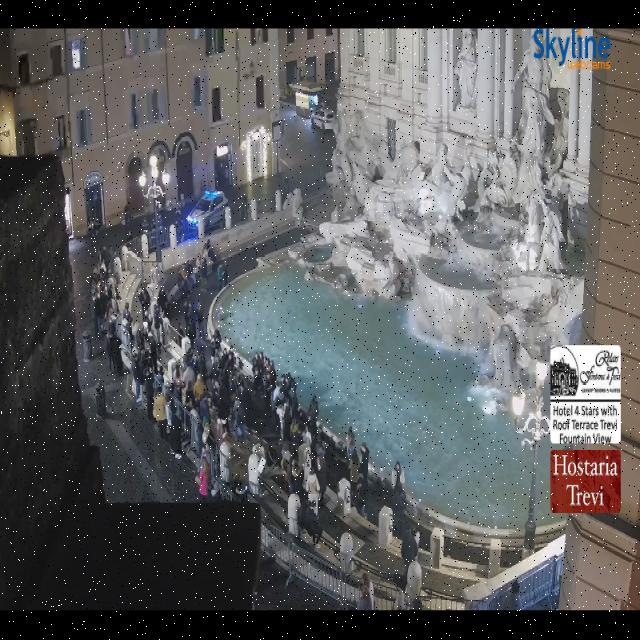person: (184, 347, 219, 407), (184, 350, 215, 404), (281, 443, 307, 499), (166, 383, 182, 453), (184, 344, 214, 381), (128, 308, 154, 350), (127, 310, 154, 350), (220, 350, 243, 394), (236, 373, 263, 409), (90, 253, 113, 293), (210, 388, 230, 431), (305, 502, 323, 548), (102, 284, 119, 332), (401, 527, 418, 574), (212, 344, 228, 393), (292, 494, 311, 535), (196, 343, 216, 381), (187, 404, 203, 451), (146, 307, 162, 354), (232, 373, 251, 411), (348, 450, 361, 505), (127, 316, 146, 352), (281, 443, 294, 495), (208, 341, 221, 393), (393, 489, 406, 539), (154, 390, 167, 439), (288, 494, 303, 536), (215, 379, 231, 418), (233, 399, 247, 443), (305, 466, 319, 510), (352, 474, 366, 518), (196, 457, 210, 501), (209, 347, 222, 394), (101, 282, 113, 332), (166, 210, 183, 245), (262, 368, 275, 413), (502, 581, 522, 610), (158, 200, 171, 244), (208, 338, 221, 381), (316, 456, 327, 505), (105, 295, 119, 333), (132, 350, 142, 403), (210, 338, 222, 381), (180, 260, 196, 292), (144, 370, 154, 421), (123, 303, 138, 337), (187, 347, 202, 381), (288, 374, 299, 420), (103, 245, 115, 287), (200, 439, 214, 475), (292, 459, 304, 501), (360, 443, 369, 499), (105, 324, 115, 374), (188, 344, 203, 377), (139, 312, 152, 350), (184, 346, 198, 381), (100, 263, 114, 298), (362, 573, 375, 610), (91, 269, 98, 337), (221, 350, 235, 384), (252, 360, 266, 394), (128, 320, 143, 351), (96, 272, 107, 314), (255, 363, 269, 396), (106, 330, 116, 376), (140, 330, 151, 371), (392, 462, 404, 499), (238, 377, 251, 411), (308, 395, 319, 435), (349, 452, 359, 496), (157, 364, 171, 395), (92, 284, 100, 338), (197, 348, 208, 387), (106, 298, 118, 333), (173, 365, 185, 400), (252, 365, 263, 403), (357, 472, 366, 518), (183, 356, 195, 390), (262, 357, 274, 391), (276, 403, 287, 440), (265, 443, 282, 466), (194, 374, 207, 404), (96, 291, 105, 334), (148, 331, 157, 374), (283, 397, 292, 440), (107, 285, 119, 316), (178, 264, 191, 292), (154, 304, 162, 349), (122, 303, 134, 333), (358, 585, 372, 610), (264, 357, 276, 386), (115, 335, 123, 378), (275, 443, 293, 462), (346, 425, 356, 459), (196, 303, 206, 337), (133, 324, 144, 354), (252, 357, 263, 387), (139, 286, 150, 316), (97, 263, 106, 298), (272, 383, 284, 409), (214, 417, 224, 448), (200, 397, 211, 425), (139, 315, 148, 349), (187, 311, 196, 345), (143, 214, 155, 239), (185, 260, 195, 290), (392, 572, 407, 592), (141, 216, 154, 239), (392, 589, 406, 610), (158, 286, 168, 315), (201, 417, 210, 449), (185, 381, 196, 407), (292, 423, 303, 449), (232, 476, 247, 495), (280, 374, 291, 399), (140, 312, 149, 342), (92, 259, 101, 289), (292, 422, 303, 446), (176, 269, 187, 293), (101, 245, 114, 265), (200, 255, 207, 292), (252, 353, 263, 376), (202, 416, 210, 447), (144, 307, 153, 334), (268, 359, 277, 386), (252, 352, 263, 374), (91, 262, 99, 292), (141, 216, 151, 240), (312, 439, 325, 457), (126, 317, 135, 343), (285, 373, 296, 394), (176, 211, 183, 243), (88, 216, 99, 236), (280, 374, 289, 398), (302, 426, 312, 447), (110, 282, 121, 301), (184, 298, 191, 327), (144, 286, 151, 315), (183, 347, 193, 367), (100, 246, 108, 271), (240, 194, 248, 219), (310, 438, 319, 460), (123, 303, 132, 324), (208, 242, 216, 265), (184, 260, 193, 280), (217, 263, 223, 292), (221, 418, 230, 437), (94, 216, 102, 236), (100, 246, 109, 263), (96, 269, 102, 294), (175, 209, 182, 230), (65, 216, 72, 237), (214, 329, 221, 350), (94, 215, 101, 235), (412, 596, 422, 610), (177, 324, 185, 341), (124, 205, 131, 224), (142, 218, 149, 236), (203, 238, 211, 253), (126, 229, 132, 249), (414, 528, 420, 548), (202, 240, 210, 254), (97, 250, 102, 271), (223, 262, 227, 287), (108, 245, 114, 261), (196, 254, 202, 270), (88, 218, 93, 235), (158, 211, 163, 227), (178, 434, 179, 440)
